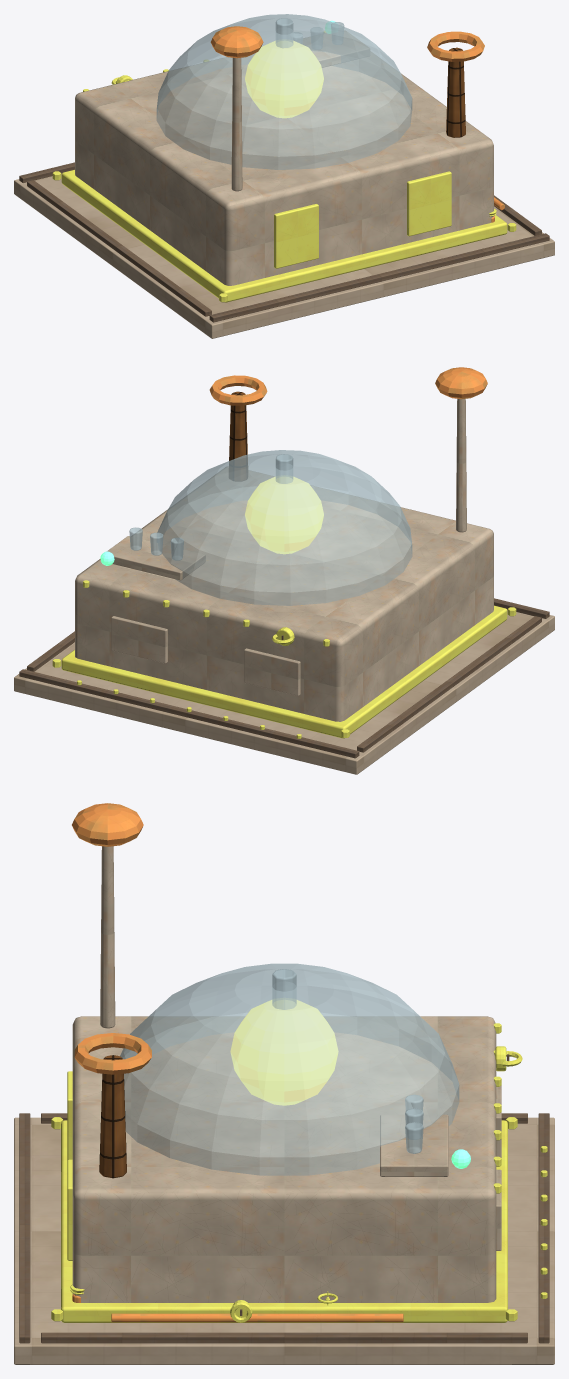
Rendered from ff-lab.glb.
3 renders of one model, top to bottom at view 1: azimuth 30°, elevation 25°; view 2: azimuth 150°, elevation 25°; view 3: azimuth 270°, elevation 25°, orthographic. The views are drawn at different scales.
Visible parts, largest first — view 1: Base.005, GaugeGlass.018, Pad.017, Bolt.025, PadLipN.017, GlowFlask, PadPipe.017, CoilCol, Vent; view 2: Base.005, GaugeGlass.018, Pad.017, Bolt.025, Vent, PadLipN.017, GlowFlask, PadPipe.017, CoilCol; view 3: Base.005, GaugeGlass.018, Pad.017, Bolt.025, PadLipN.017, GlowFlask, PadPipe.017, Vent, CoilCol.
Part boxes in pixels (bbox=[...]): Base.005: bbox=[75, 33, 493, 285]; GaugeGlass.018: bbox=[156, 14, 412, 169]; Pad.017: bbox=[14, 174, 554, 338]; Bolt.025: bbox=[52, 31, 516, 302]; PadLipN.017: bbox=[19, 162, 549, 322]; GlowFlask: bbox=[245, 40, 323, 118]; PadPipe.017: bbox=[210, 26, 504, 222]; CoilCol: bbox=[446, 47, 465, 137]; Vent: bbox=[303, 30, 369, 67]; Base.005: bbox=[75, 399, 493, 721]; GaugeGlass.018: bbox=[129, 450, 412, 605]; Pad.017: bbox=[14, 610, 554, 774]; Bolt.025: bbox=[52, 580, 516, 738]; Vent: bbox=[107, 536, 300, 695]; PadLipN.017: bbox=[19, 598, 549, 758]; GlowFlask: bbox=[245, 476, 323, 554]; PadPipe.017: bbox=[209, 367, 487, 405]; CoilCol: bbox=[229, 391, 247, 481]; Base.005: bbox=[72, 846, 496, 1302]; GaugeGlass.018: bbox=[120, 963, 459, 1175]; Pad.017: bbox=[14, 1117, 554, 1364]; Bolt.025: bbox=[51, 1023, 547, 1322]; PadLipN.017: bbox=[19, 1054, 549, 1343]; GlowFlask: bbox=[230, 1000, 338, 1105]; PadPipe.017: bbox=[72, 803, 403, 1322]; Vent: bbox=[380, 1085, 501, 1250]; CoilCol: bbox=[99, 1055, 126, 1178].
Size of the model in its own units: 3 by 2.25 by 3.
Materials: 12 (9 with a texture image).
